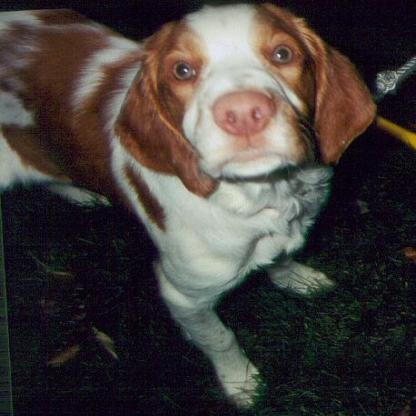Brittany_spaniel: (0, 2, 373, 407)
